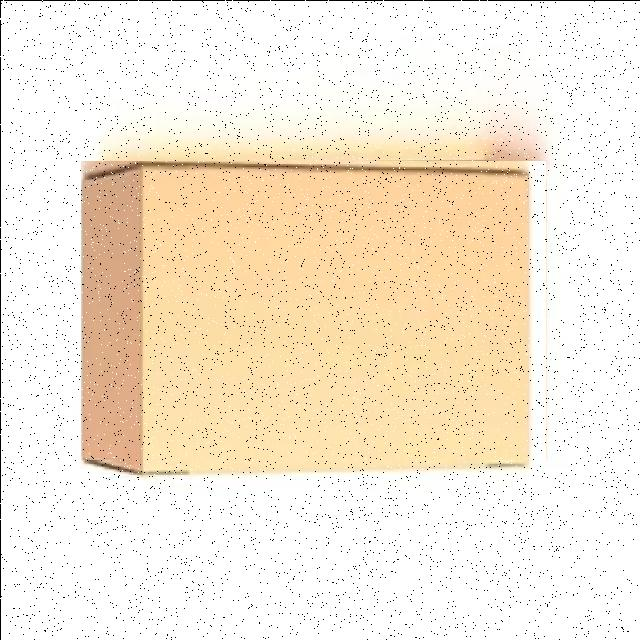defect: (80, 160, 545, 480)
